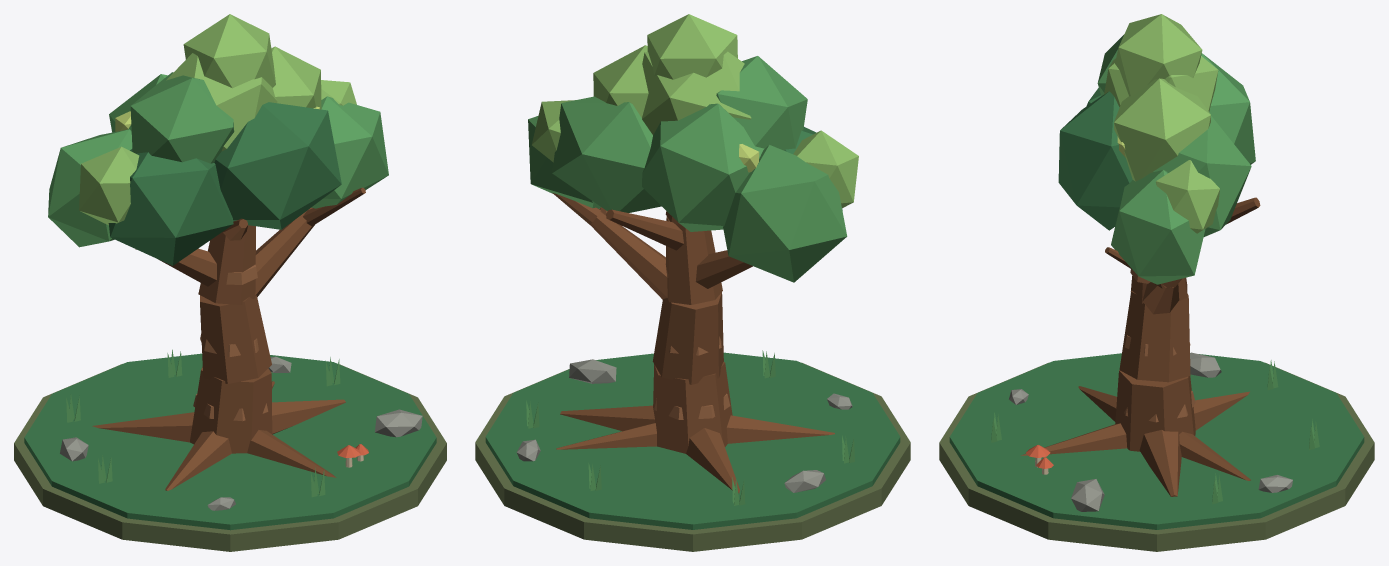
File: low_poly_tree_asset.glb
3 renders of one model, left to right at view 1: azimuth 30°, elevation 25°; view 2: azimuth 150°, elevation 25°; view 3: azimuth 270°, elevation 25°, orthographic.
Visible parts, largest first — view 1: Raised Moss, Foliage Cluster 04, Forest Display Base, Foliage Cluster 02, Foliage Cluster 09, Trunk 2, Foliage Cluster 06, Trunk 1, Foliage Cluster 10, Foliage Cluster 01, Foliage Cluster 12, Trunk 3 (+13 smaller); view 2: Raised Moss, Forest Display Base, Foliage Cluster 01, Foliage Cluster 03, Foliage Cluster 05, Foliage Cluster 09, Trunk 2, Trunk 1, Foliage Cluster 10, Foliage Cluster 07, Trunk 3, Branch 1 (+12 smaller); view 3: Raised Moss, Forest Display Base, Foliage Cluster 06, Foliage Cluster 04, Foliage Cluster 08, Trunk 2, Foliage Cluster 10, Trunk 1, Foliage Cluster 05, Foliage Cluster 11, Foliage Cluster 03, Root 1 (+8 smaller).
Boxes of the visible parts, x1,y1,x2,y2 form: Raised Moss: (24,353,436,530); Foliage Cluster 04: (214,102,341,229); Forest Display Base: (14,364,446,551); Foliage Cluster 02: (108,149,233,265); Foliage Cluster 09: (130,72,234,163); Trunk 2: (200,295,271,383); Foliage Cluster 06: (311,96,388,208); Trunk 1: (190,367,272,453); Foliage Cluster 10: (183,14,275,88); Foliage Cluster 01: (48,129,132,247); Foliage Cluster 12: (79,146,139,225); Trunk 3: (198,225,255,304); Raised Moss: (485,352,900,529); Forest Display Base: (475,362,910,551); Foliage Cluster 01: (723,145,847,282); Foliage Cluster 03: (642,103,764,231); Foliage Cluster 05: (552,96,661,212); Foliage Cluster 09: (716,56,807,150); Trunk 2: (652,292,723,384); Trunk 1: (653,362,732,453); Foliage Cluster 10: (647,14,737,79); Foliage Cluster 07: (642,51,751,134); Trunk 3: (665,216,722,304); Branch 1: (590,211,667,299); Raised Moss: (949,353,1364,529); Forest Display Base: (939,362,1374,551); Foliage Cluster 06: (1111,170,1205,284); Foliage Cluster 04: (1058,91,1132,230); Foliage Cluster 08: (1114,78,1210,181); Trunk 2: (1119,291,1190,382); Foliage Cluster 10: (1115,14,1202,96); Trunk 1: (1115,370,1195,451); Foliage Cluster 05: (1153,116,1251,236); Foliage Cluster 11: (1156,160,1219,233); Foliage Cluster 03: (1201,53,1255,164); Root 1: (1139,430,1181,496).
Bounding box in the file's own units: 6.3 × 7.14 × 6.3.
